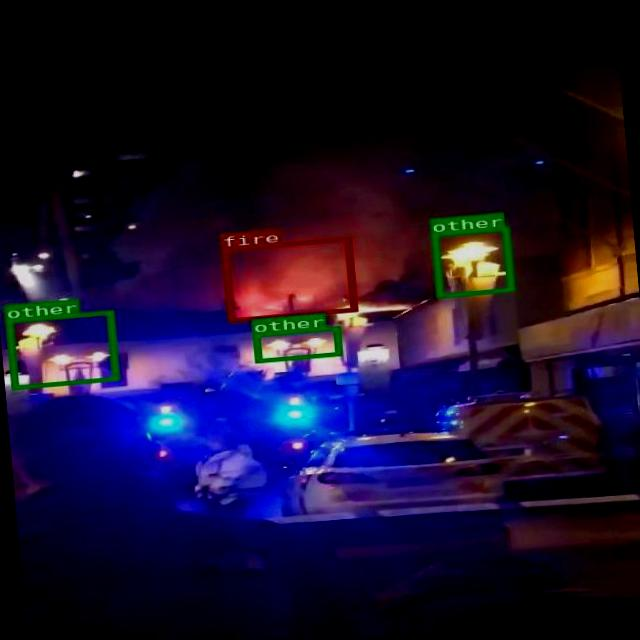fire: (221, 236, 356, 321)
